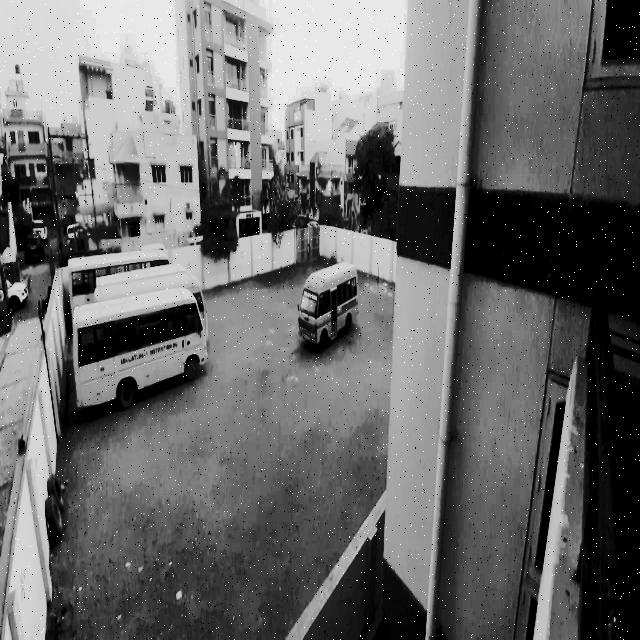Bus: (74, 292, 208, 404), (294, 244, 370, 370), (98, 279, 214, 318), (66, 245, 171, 280)
